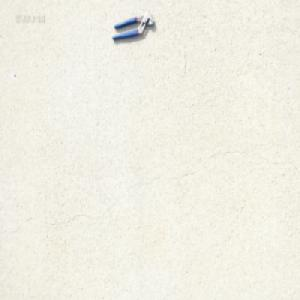Pliers: (111, 11, 155, 41)
